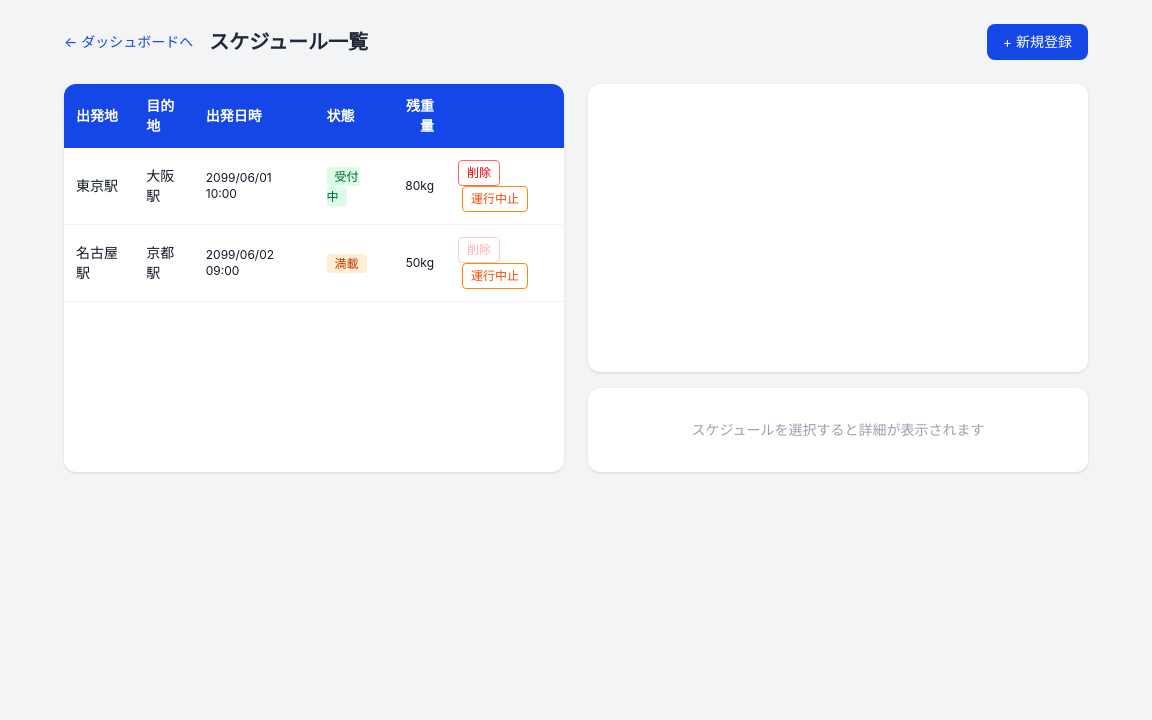
Test: ScheduleList › スケジュールを選択すると詳細が表示される
Click the row "東京駅 大阪駅 2099/06/01 10:00 受付中 80kg 削除 運行中止" at {"x": 314, "y": 186}, box x1=64 y1=148 x2=564 y2=224
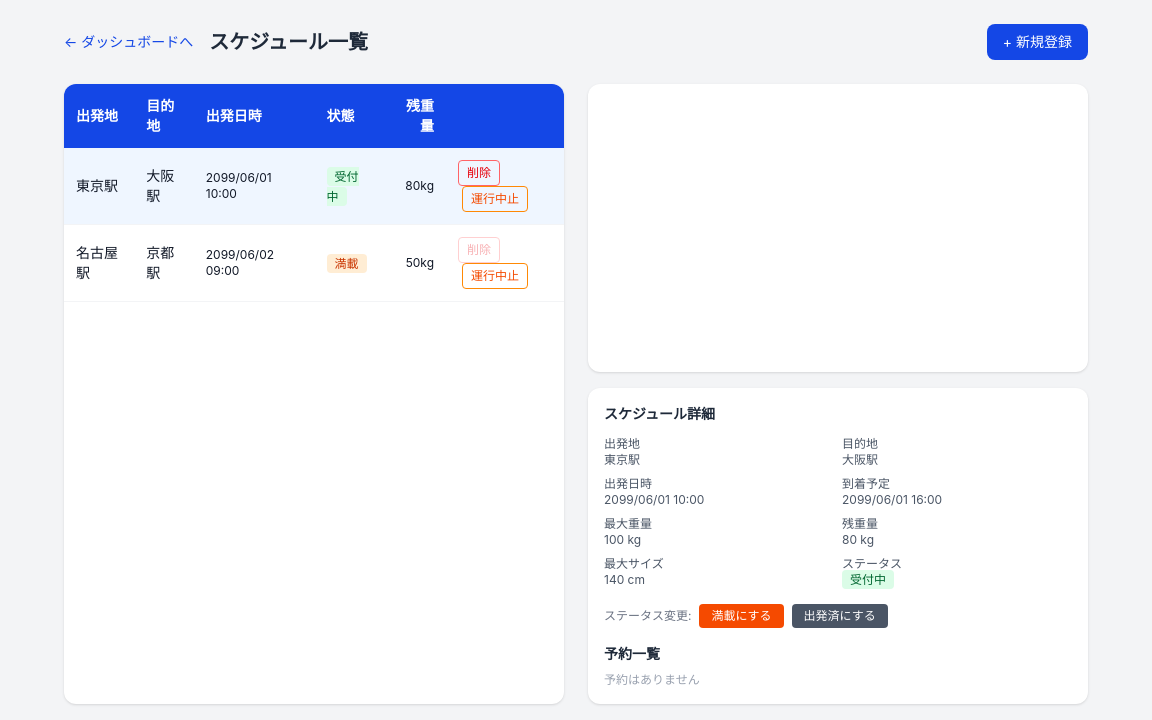
Expected: the text "80" is shown, x1=383 y1=148 x2=446 y2=224
Expected: the text "スケジュール詳細" is shown, x1=604 y1=405 x2=715 y2=422
